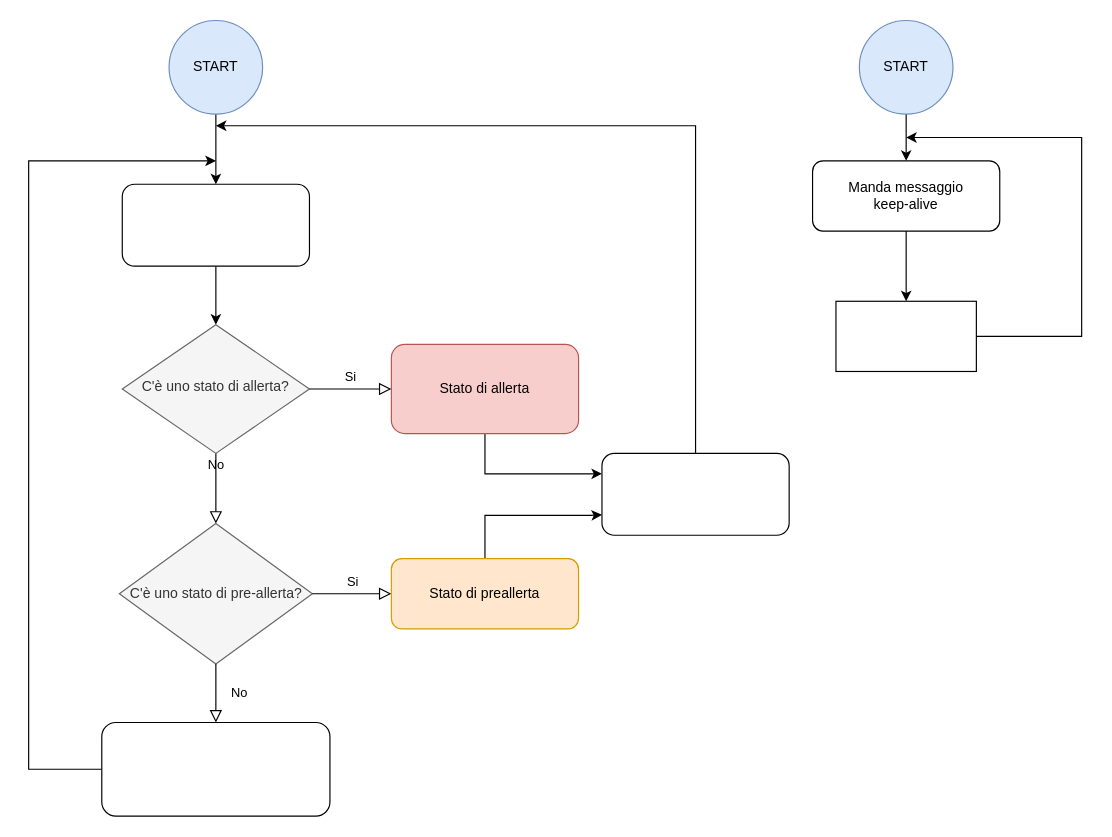
Some shapes in this 1112 by 837 pixel diagram are drawn without their labels. The box of each missing label's shape, as (x1, y1, x2, y2) in pixels:
Aspetta 1 ora: (835, 300, 976, 371)
Il sensore manda il livello dell'acqua: (121, 183, 309, 266)
Mando messaggio: (601, 452, 789, 535)
Nessuna allerta, non mando nessun messsaggio: (101, 721, 330, 816)
